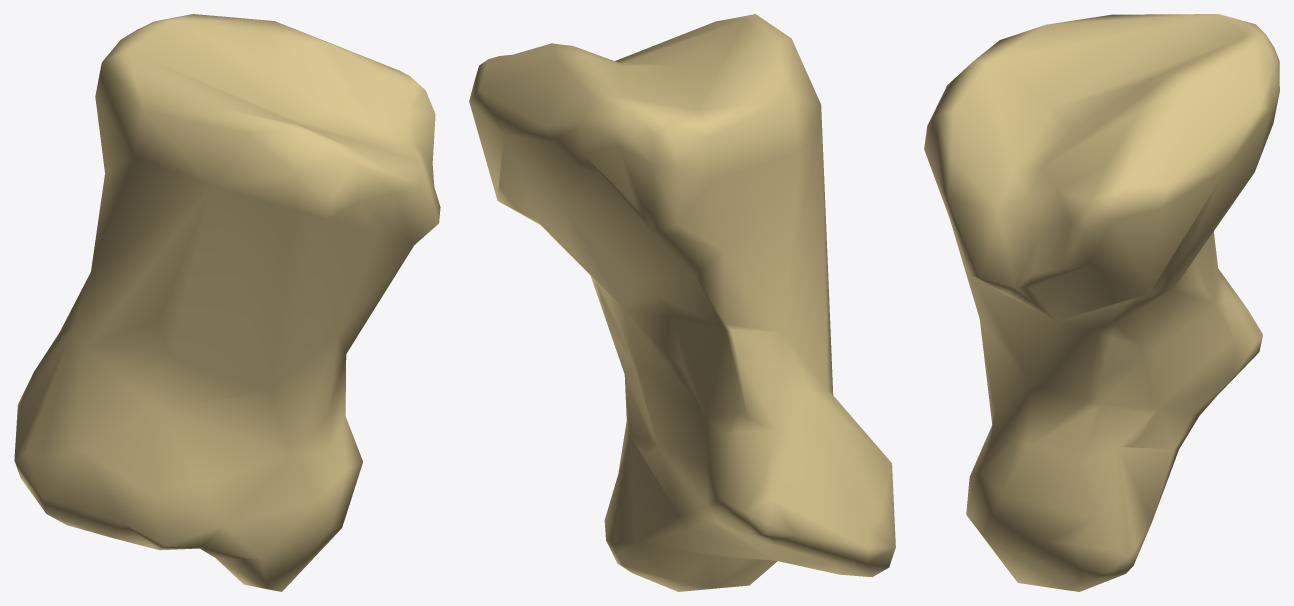
3 renders of one model, left to right at view 1: azimuth 30°, elevation 25°; view 2: azimuth 150°, elevation 25°; view 3: azimuth 270°, elevation 25°, orthographic. The views are drawn at different scales.
Parts seen in each view (by area): view 1: 右侧第四趾中节趾骨; view 2: 右侧第四趾中节趾骨; view 3: 右侧第四趾中节趾骨.
Part boxes in pixels (x1=…): 右侧第四趾中节趾骨: x1=14, y1=14, x2=440, y2=591; 右侧第四趾中节趾骨: x1=469, y1=14, x2=895, y2=591; 右侧第四趾中节趾骨: x1=924, y1=14, x2=1279, y2=591.
Bounding box in the file's own units: 0.0164 × 0.0207 × 0.0123.
